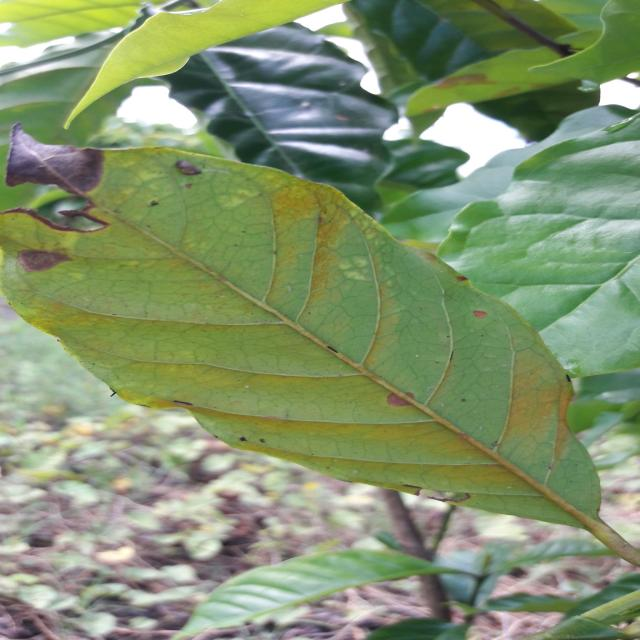Plaga-AranaRoja: (0, 127, 640, 570)
